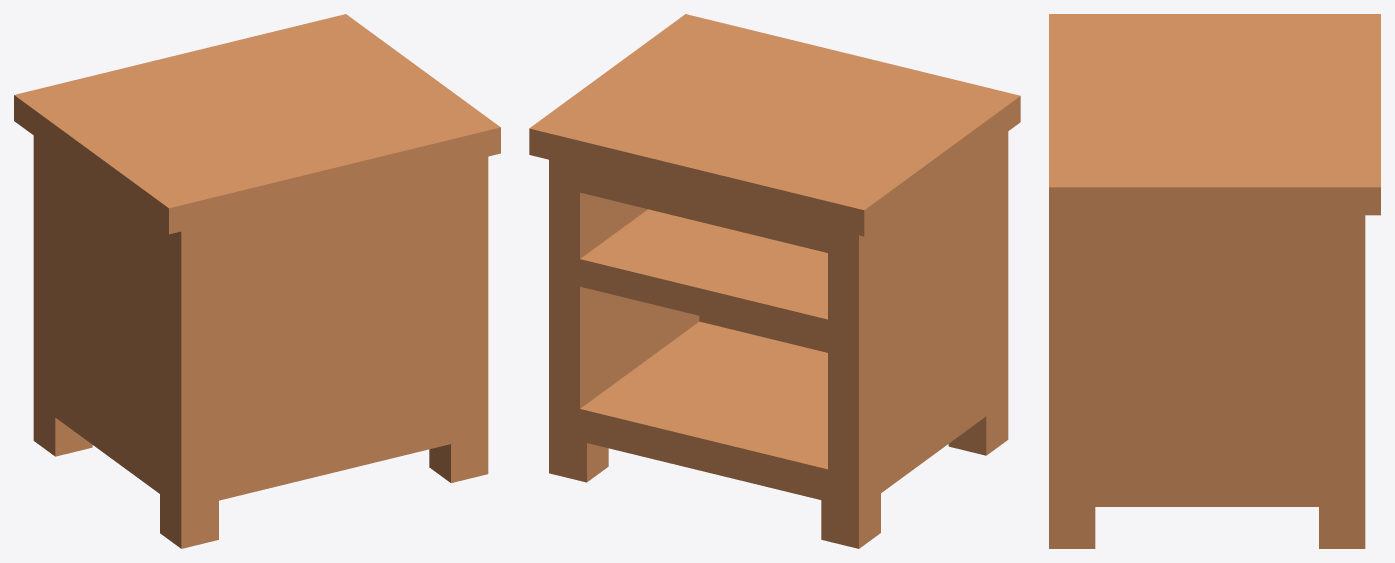
Rendered from CabinetBedDrawer.glb.
The picture shows the model from 3 angles, left to right: view 1: azimuth 30°, elevation 25°; view 2: azimuth 150°, elevation 25°; view 3: azimuth 270°, elevation 25°; orthographic projection. The views are drawn at different scales.
Visible parts, largest first — view 1: CabinetBedDrawer; view 2: CabinetBedDrawer; view 3: CabinetBedDrawer.
Part boxes in pixels (x1,y1,x2,y2): CabinetBedDrawer: (14,14,500,548); CabinetBedDrawer: (529,14,1020,548); CabinetBedDrawer: (1049,14,1380,548).
Size of the model in its own units: 0.8011 by 0.7927 by 0.6475.
